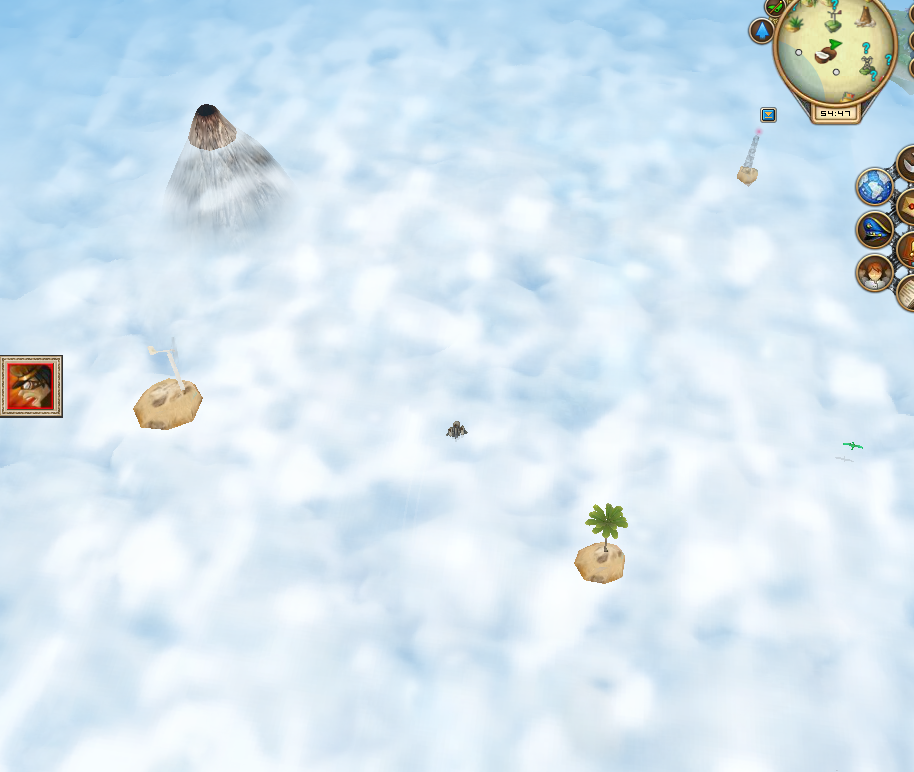palm: (568, 501, 636, 586)
